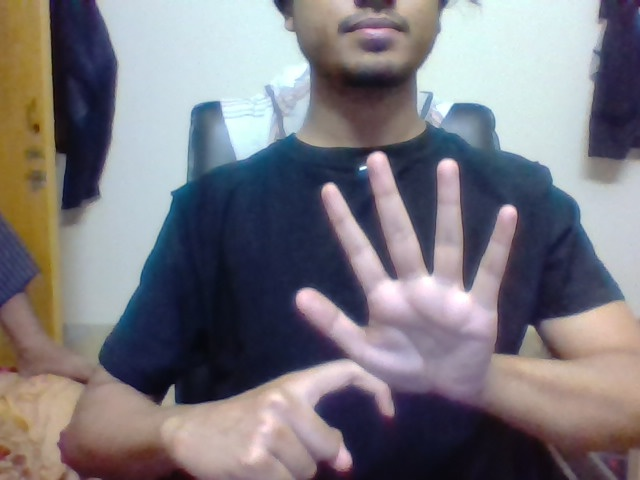R: (257, 352, 394, 472)
